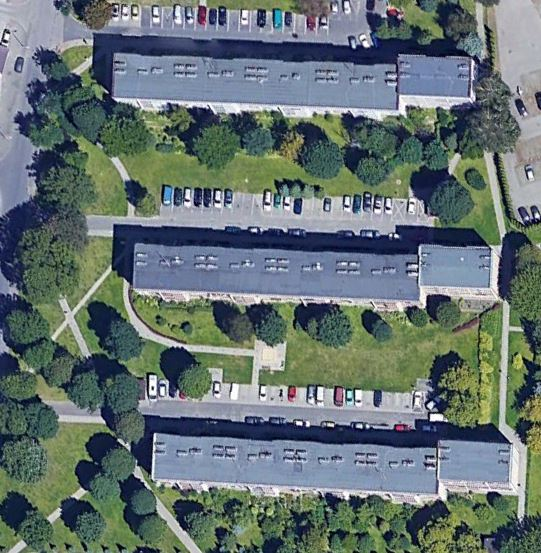block of flats: (147, 426, 523, 506), (131, 238, 503, 312), (106, 42, 478, 116)
